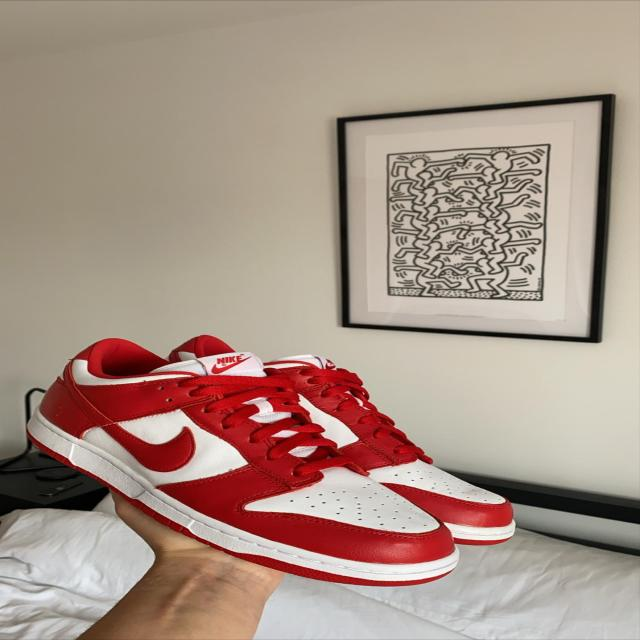shoe: (15, 330, 532, 594)
